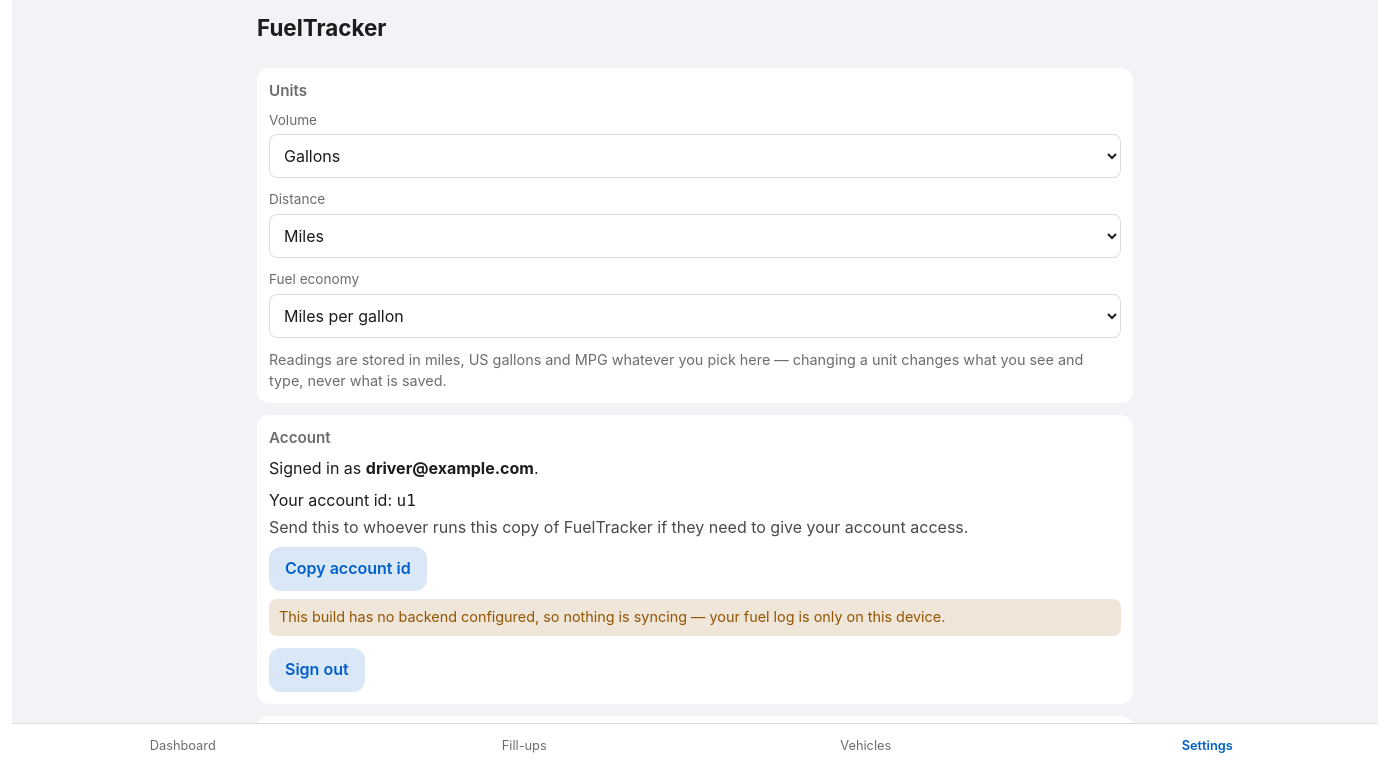
Scenario: the account section › the account id › copies to the clipboard on request
Expected: the navigation bar named "sections" is shown, [12, 723, 1378, 767]
Step 1. Click the button "Copy account id" → coordinates (348, 569), box [269, 547, 427, 591]
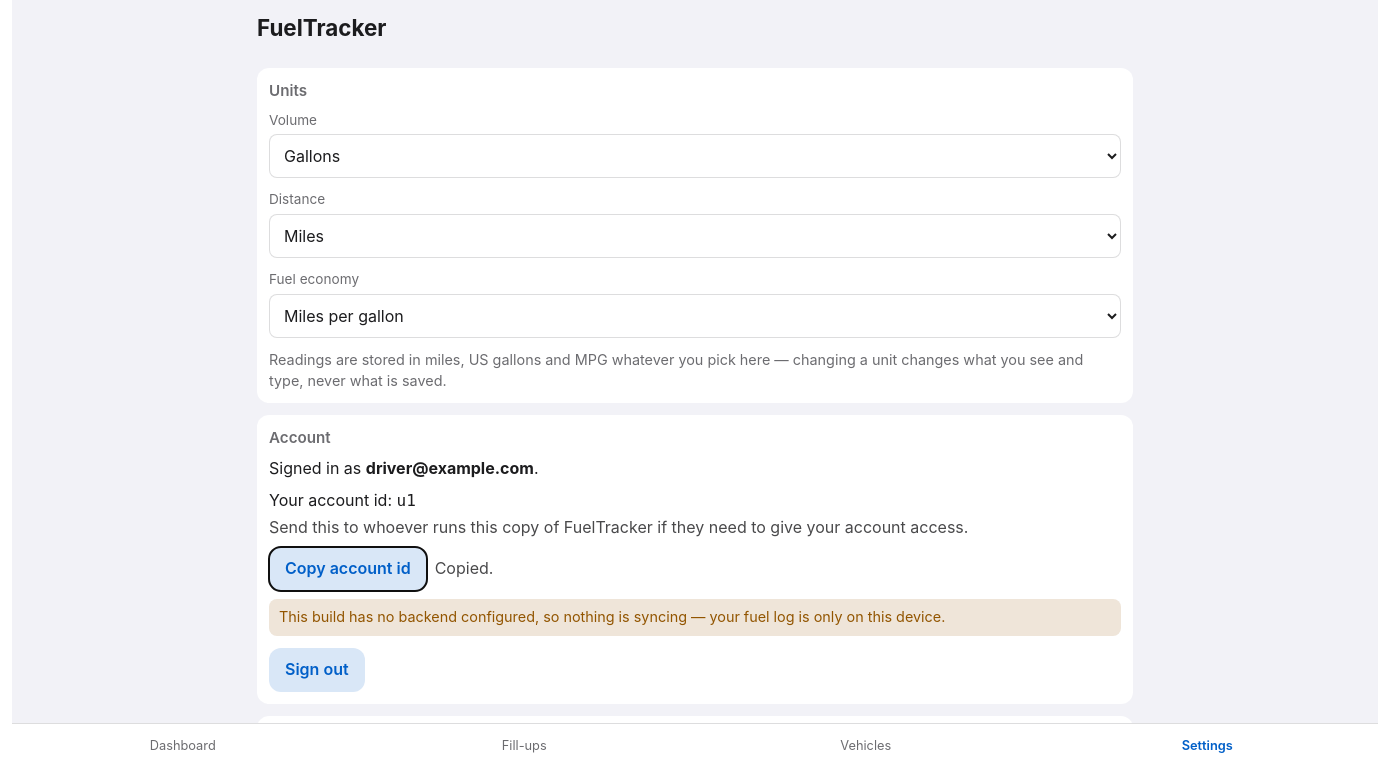
Expected: the text "Copied." is shown, [435, 558, 493, 578]
